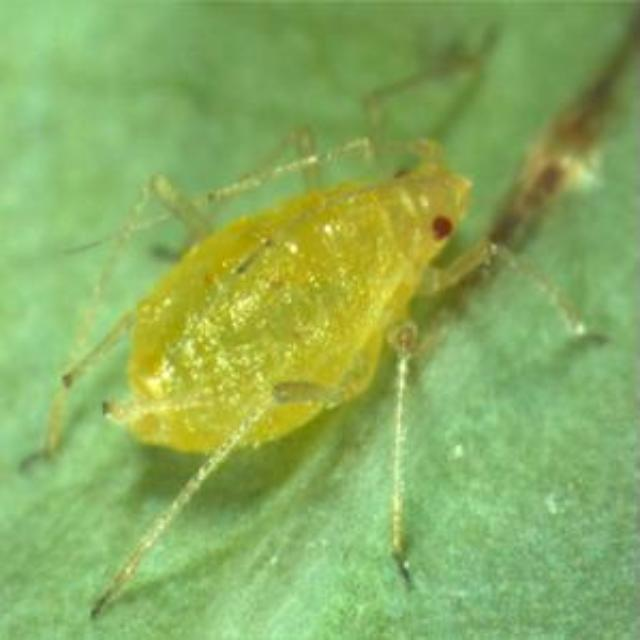Green peach aphid: (59, 96, 538, 550)
